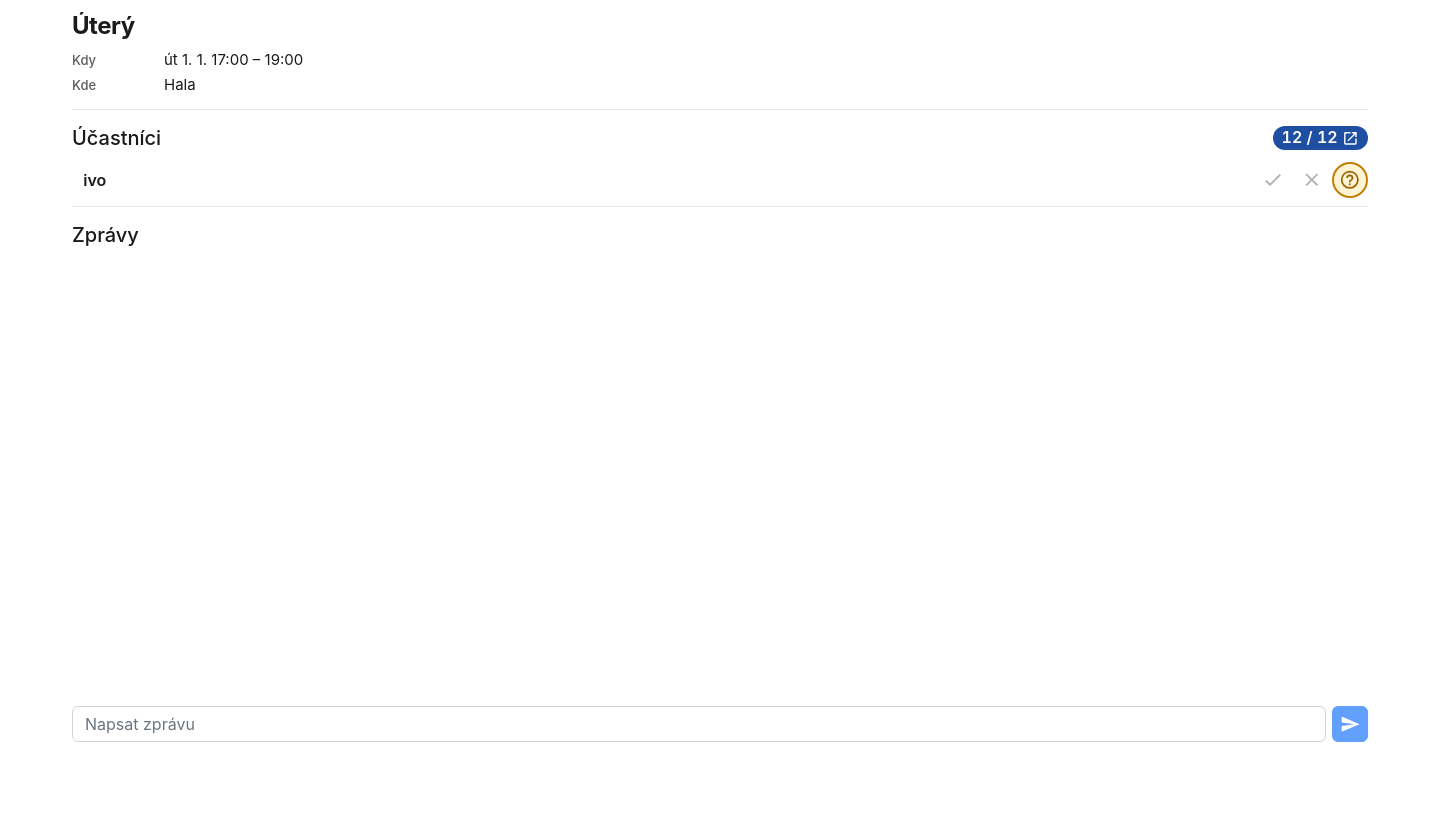
RSVP 409 does not replace local attendance with the failed payload
The image size is (1440, 822).
Expected: the text "ivo" is shown, [83,168,106,192]
Expected: the heading "Úterý" is shown, [72,12,135,40]
Click the button named "Jdu".
click(1273, 180)  # box [1255,162,1291,198]
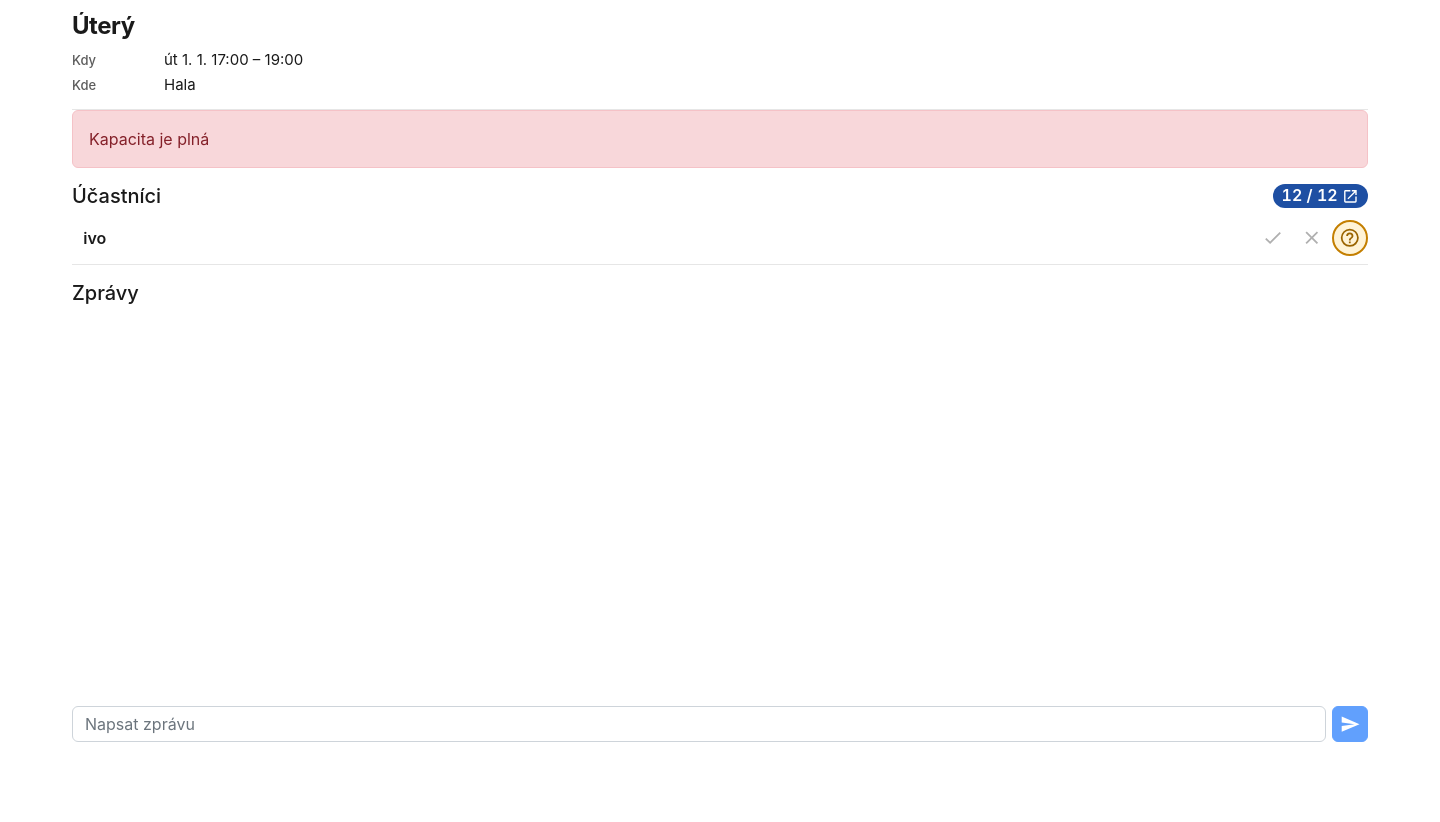
Expected: the message shows "Kapacit", [89,129,209,149]
